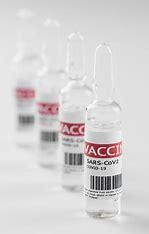Syringe: (81, 41, 127, 218), (56, 27, 91, 194)
